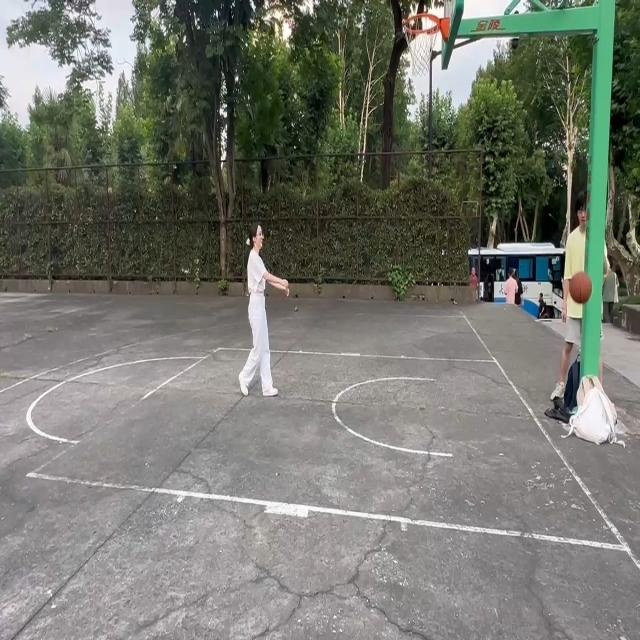basketball: (403, 13, 454, 113)
rim: (568, 272, 591, 305)
